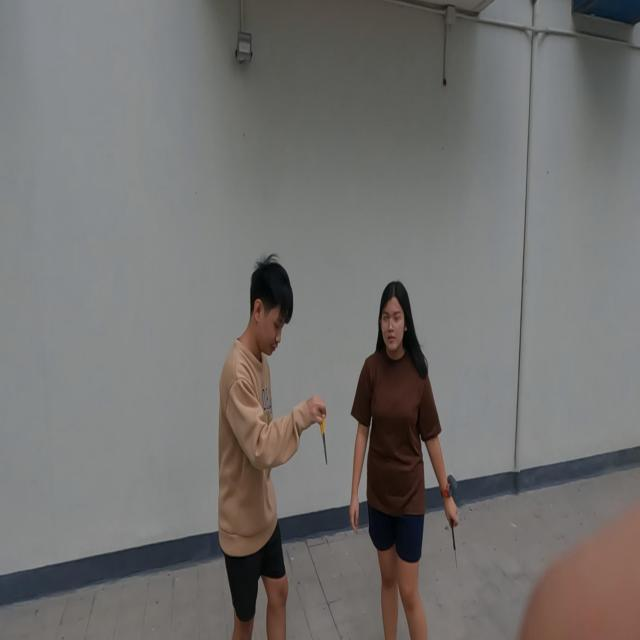scissor: (315, 403, 328, 467)
